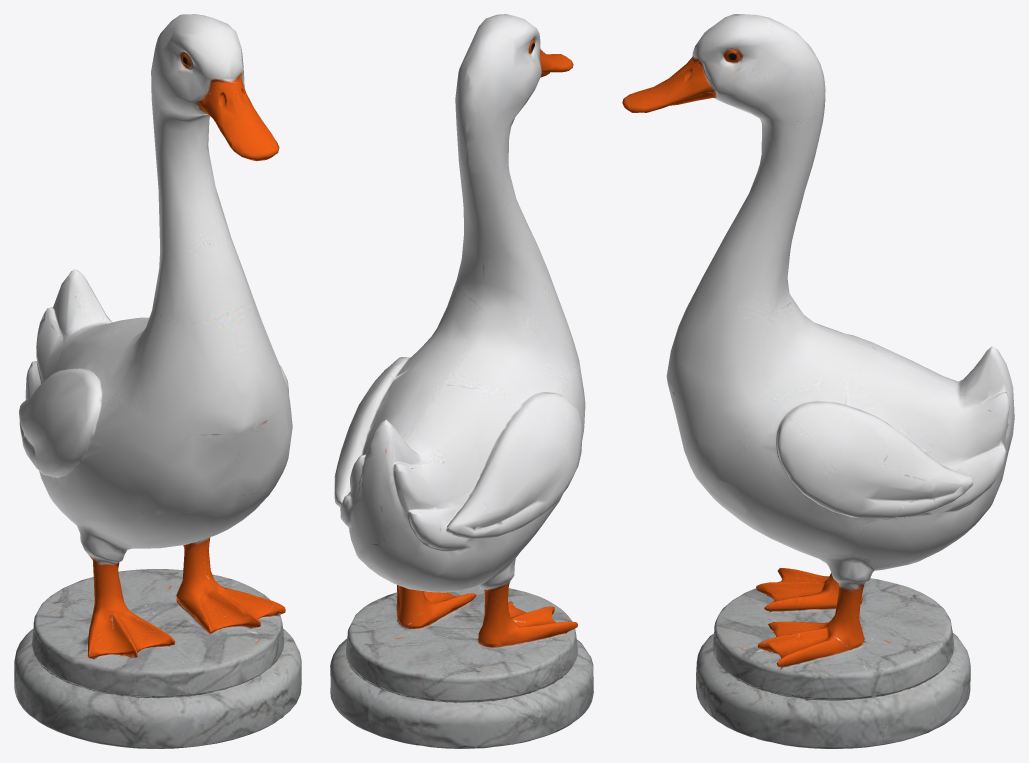
File: co_duck_p.glb
The picture shows the model from 3 angles, left to right: view 1: azimuth 30°, elevation 25°; view 2: azimuth 150°, elevation 25°; view 3: azimuth 270°, elevation 25°; orthographic projection. The views are drawn at different scales.
Size of the model in its own units: 0.7055 by 1.9 by 1.
Materials: 1 (1 with a texture image).
